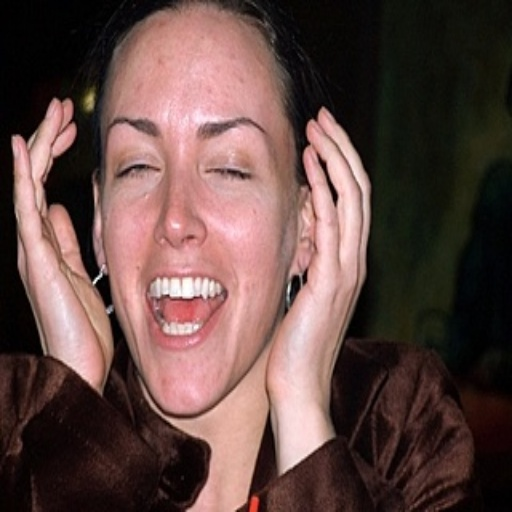hand: (270, 91, 376, 416), (9, 91, 116, 392)
